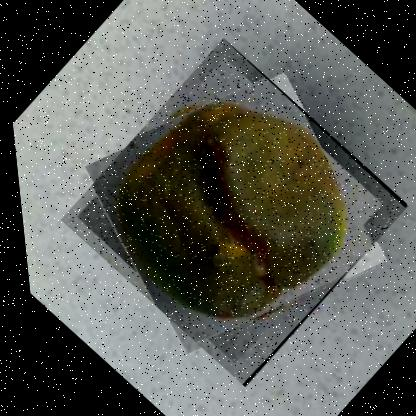orange_rotten: (39, 38, 415, 391)
